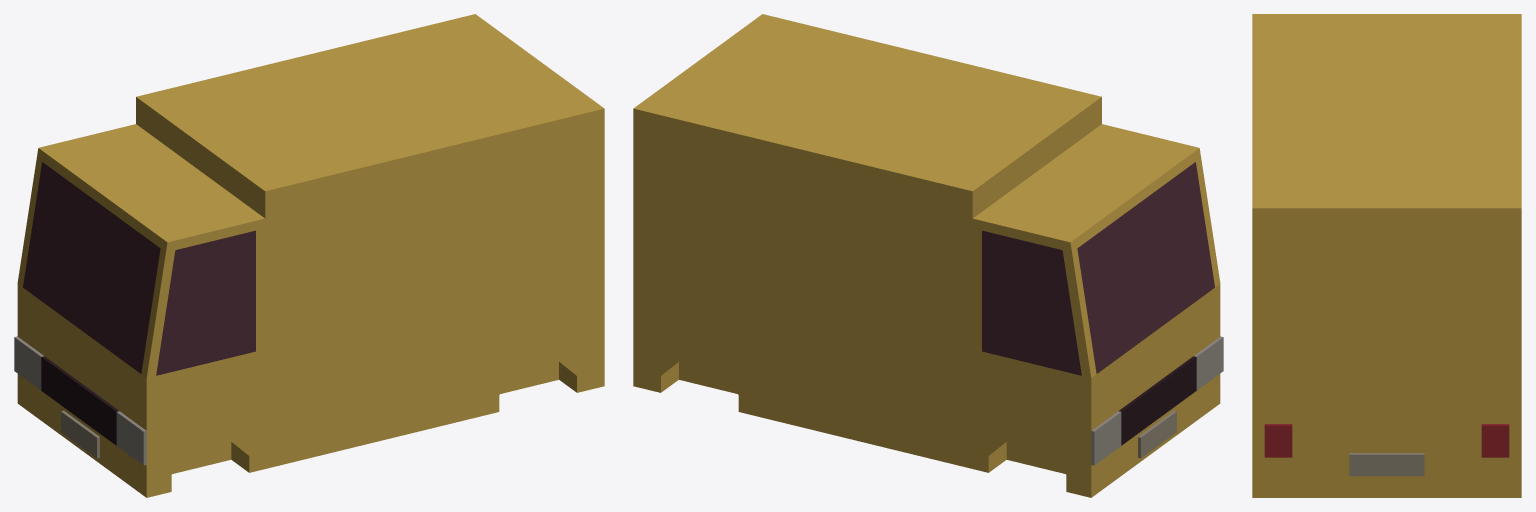
File: MiniTruck_Yellow.fbx
3 views of the same model, side by side, from view 1: azimuth 30°, elevation 25°; view 2: azimuth 150°, elevation 25°; view 3: azimuth 270°, elevation 25° (orthographic). The views are drawn at different scales.
Parts seen in each view (by area): view 1: MiniTruck_Yellow, MiniTruck_Lights; view 2: MiniTruck_Yellow, MiniTruck_Lights; view 3: MiniTruck_Yellow, MiniTruck_Lights.
Part boxes in pixels (x1,y1,x2,y2): MiniTruck_Yellow: (17, 14, 604, 497); MiniTruck_Lights: (14, 336, 146, 465); MiniTruck_Yellow: (633, 14, 1220, 497); MiniTruck_Lights: (1091, 336, 1223, 465); MiniTruck_Yellow: (1252, 14, 1521, 497); MiniTruck_Lights: (1264, 424, 1509, 457).
Size of the model in its own units: 4.46 by 2.55 by 2.15.
